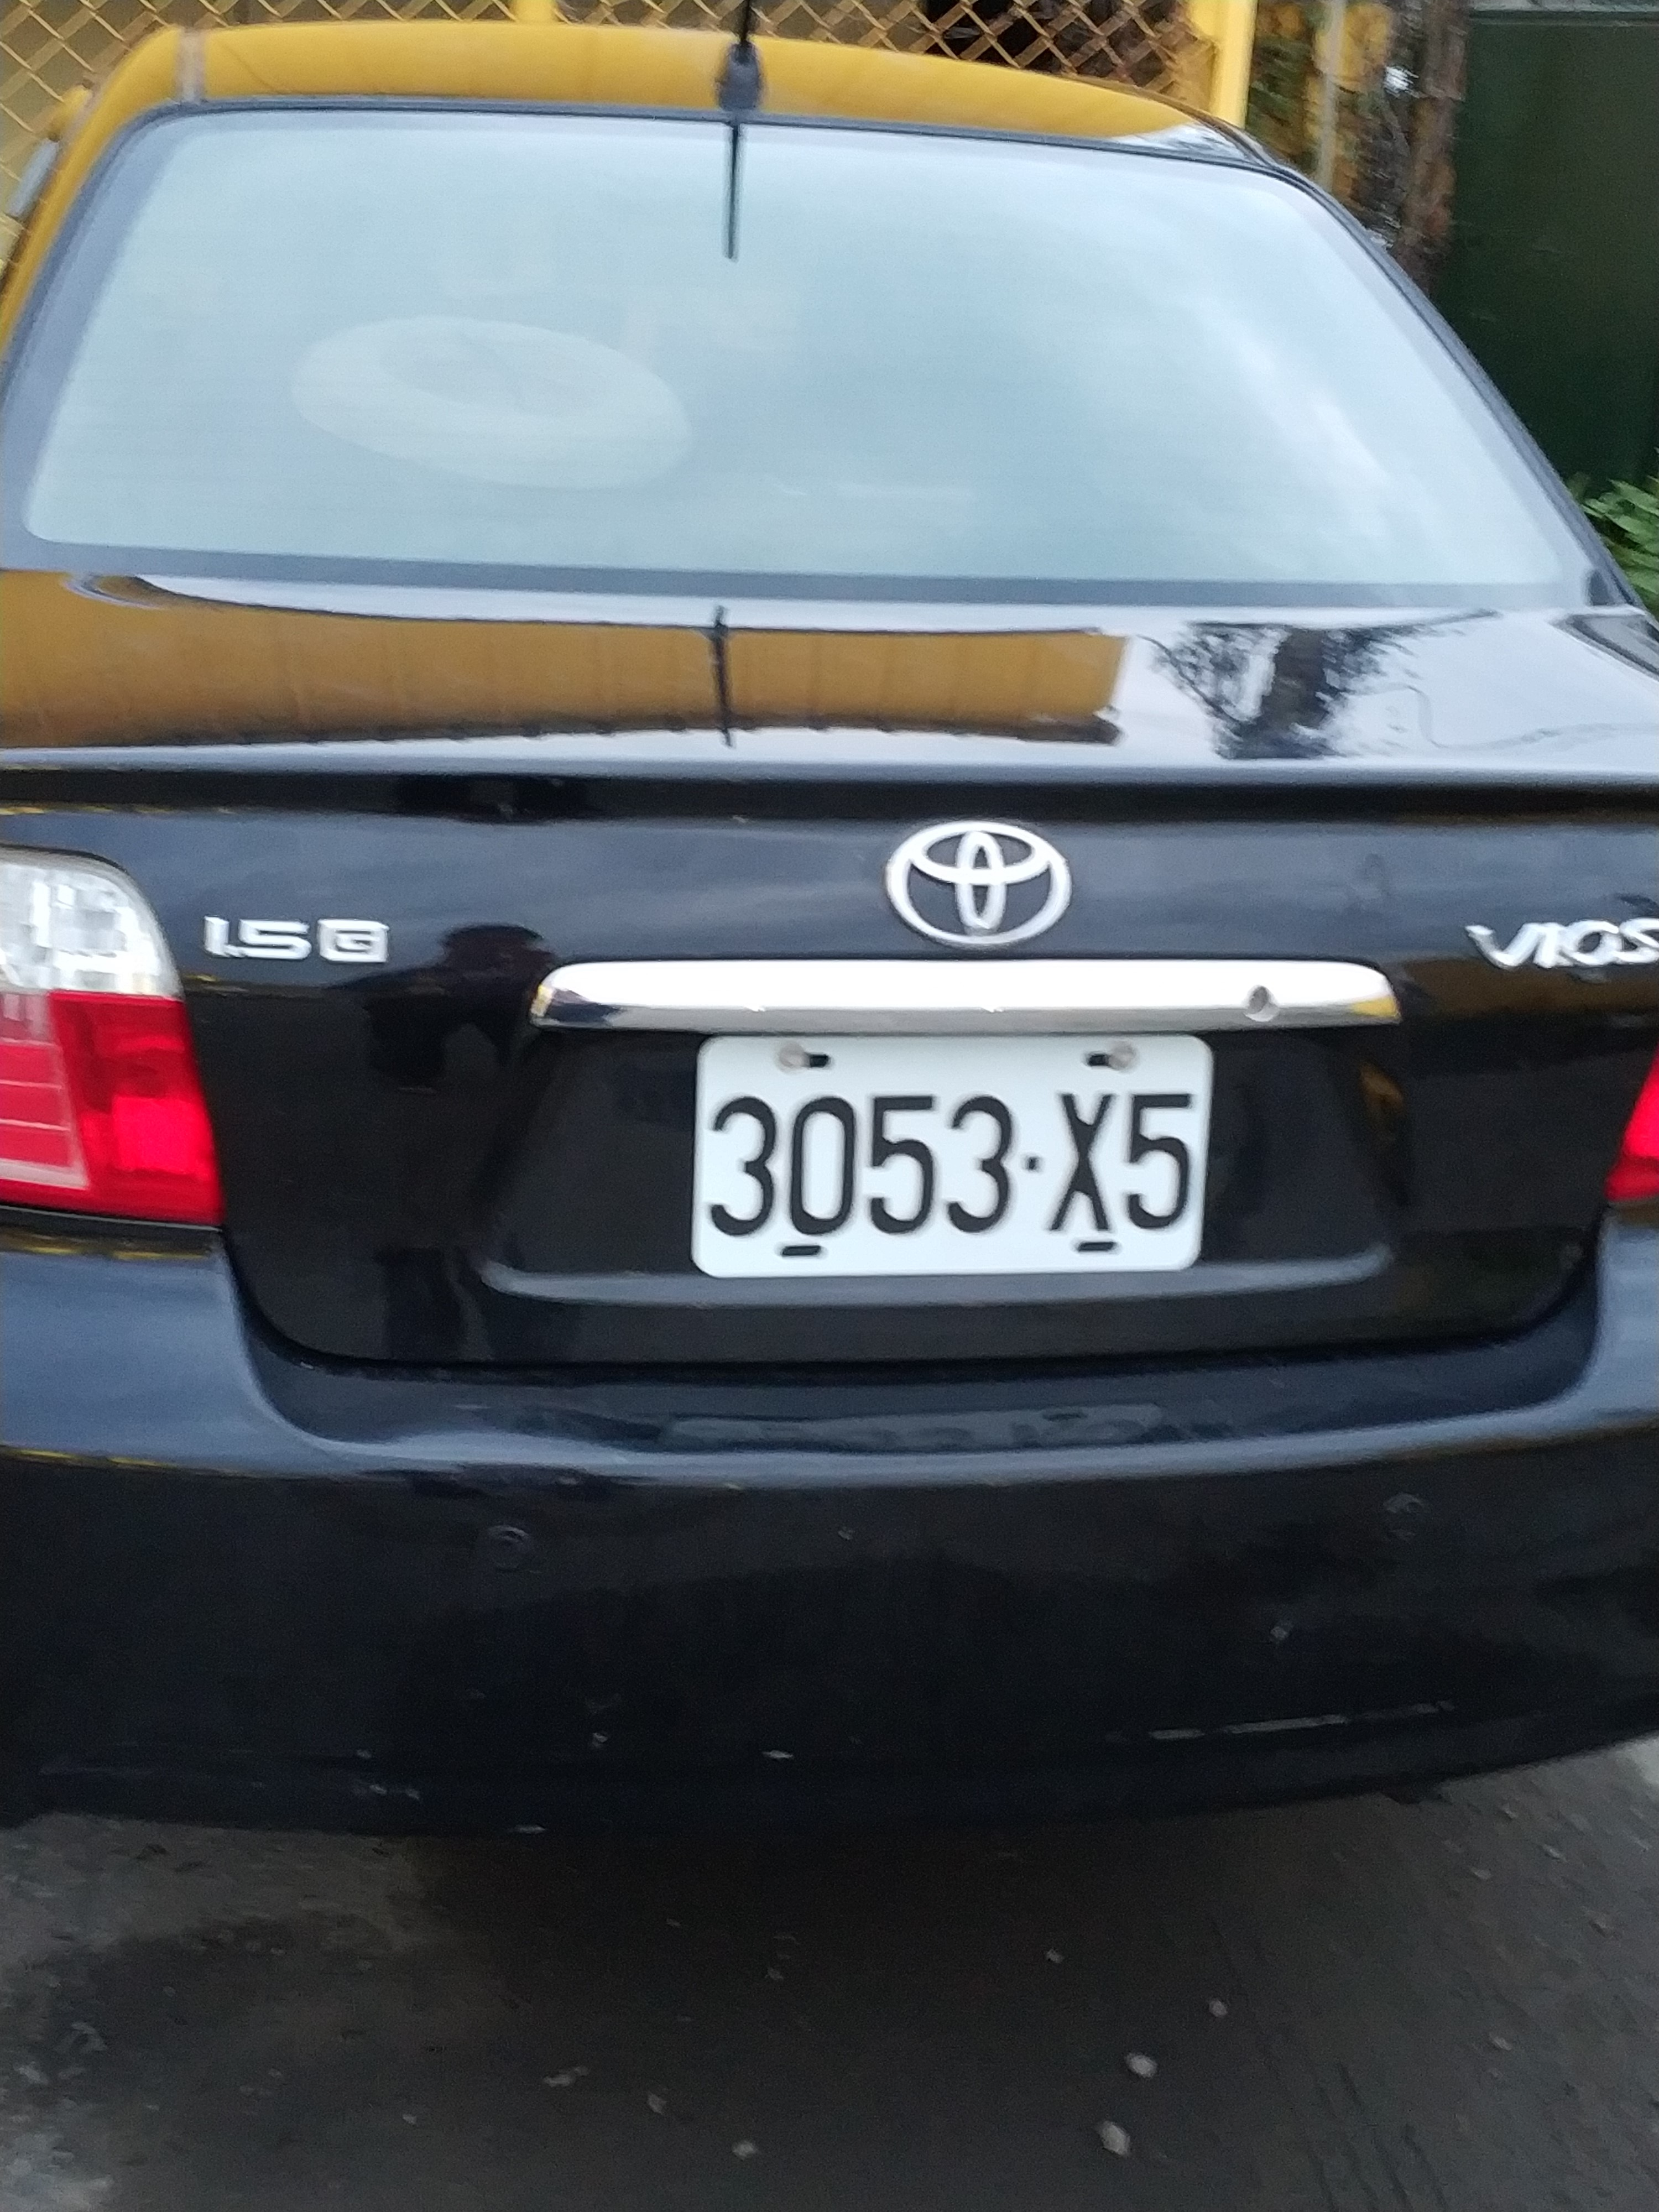car: (2, 17, 1657, 1844)
car_card: (694, 1040, 1208, 1285)
